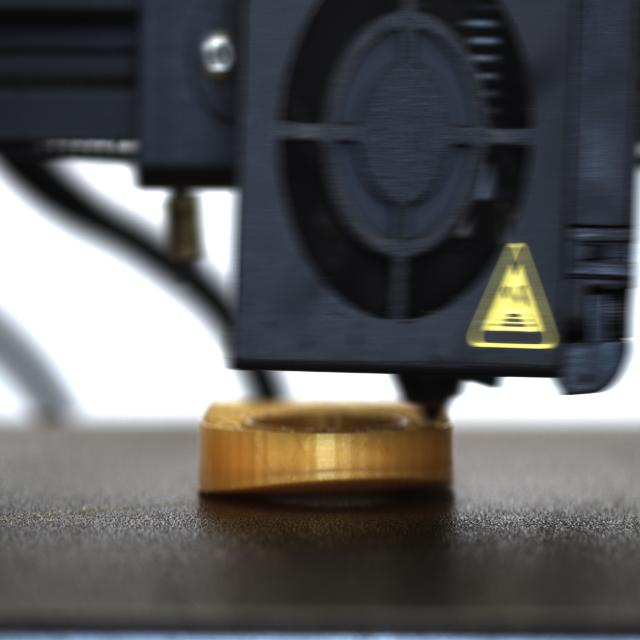Warping: (184, 475, 326, 507)
